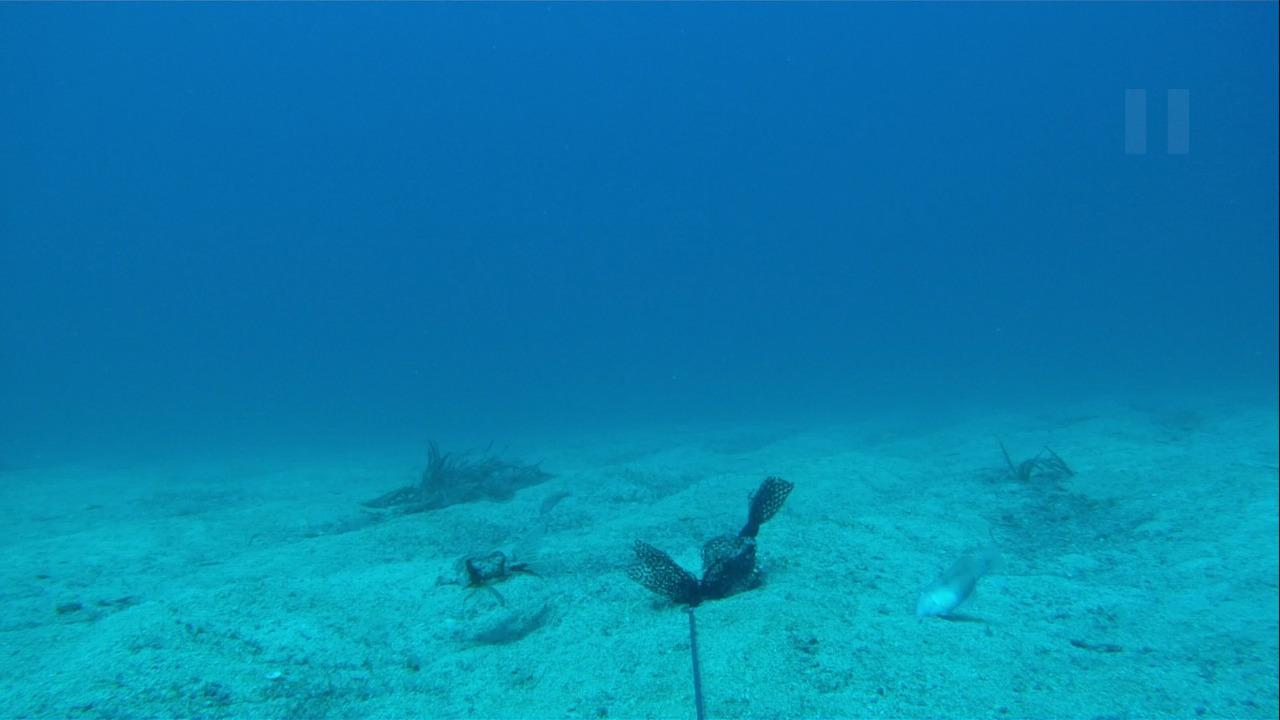dactylopterus: (423, 541, 525, 609)
raor: (913, 551, 994, 616)
